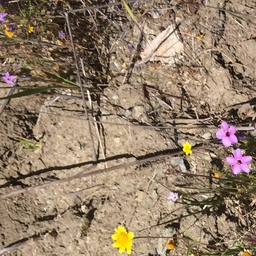LACA: (110, 223, 136, 256), (181, 141, 196, 156), (235, 247, 254, 256), (1, 25, 14, 36), (25, 24, 37, 35), (163, 242, 176, 252)
LEPA: (224, 147, 253, 177), (212, 120, 239, 147), (1, 72, 17, 86), (169, 191, 179, 201), (1, 11, 8, 21)
